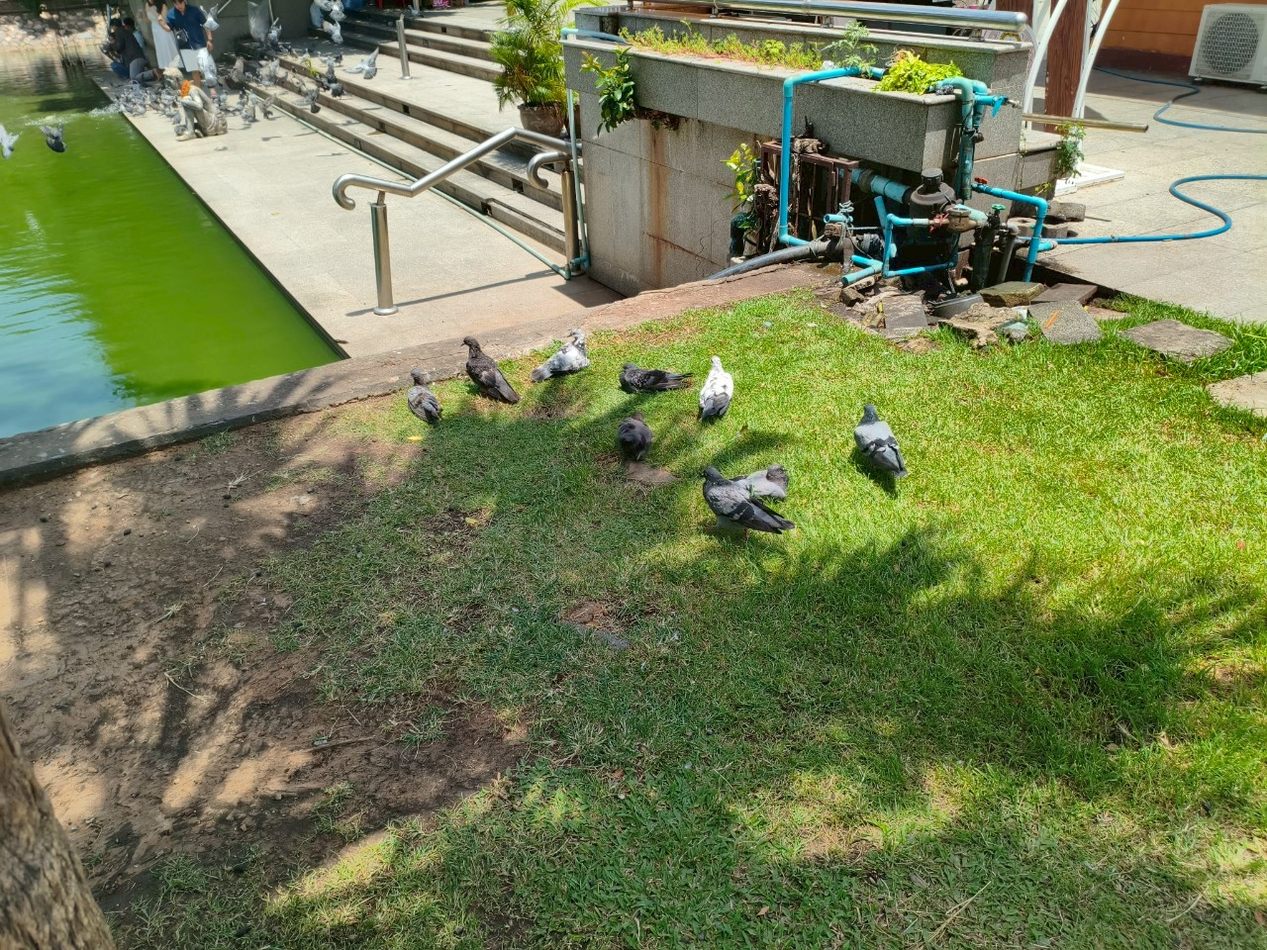Pigeon: (703, 464, 794, 532), (854, 404, 906, 477), (463, 337, 519, 403), (532, 329, 587, 382), (699, 357, 733, 418), (620, 363, 691, 392), (407, 369, 439, 422), (616, 413, 652, 459)
